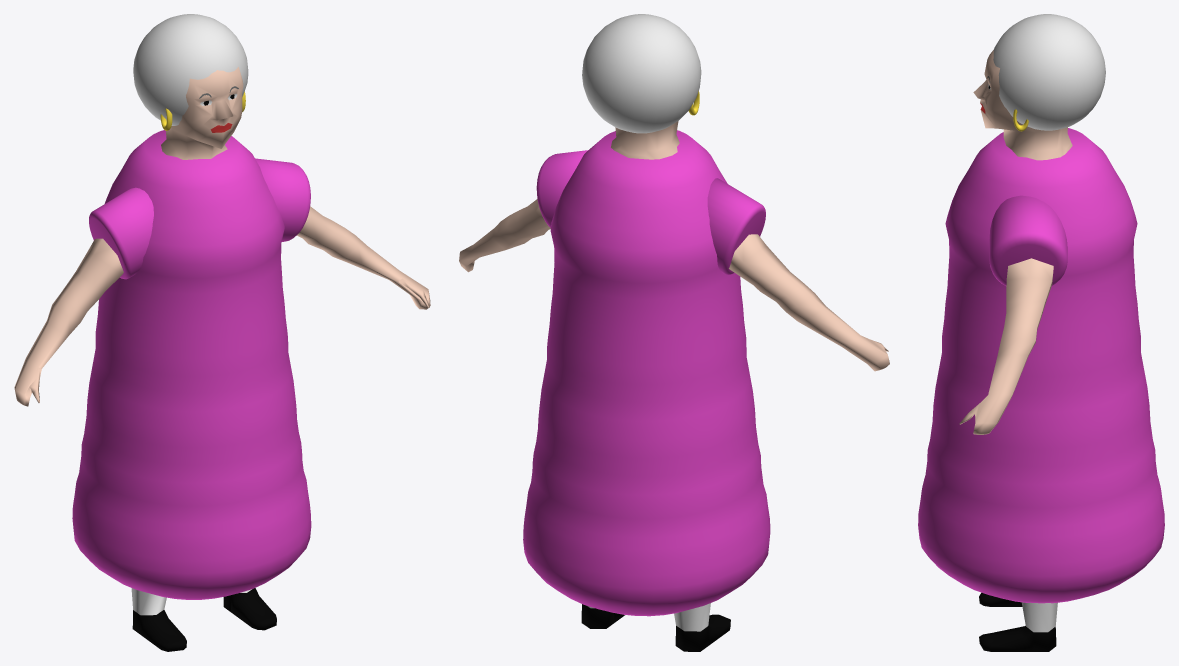
File: Oma.fbx
3 renders of one model, left to right at view 1: azimuth 30°, elevation 25°; view 2: azimuth 150°, elevation 25°; view 3: azimuth 270°, elevation 25°, orthographic. The views are drawn at different scales.
Parts seen in each view (by area): view 1: Cylinder.001, Body, Sphere; view 2: Cylinder.001, Body, Sphere; view 3: Cylinder.001, Body, Sphere.
Part boxes in pixels (<box>): Cylinder.001: <box>72,130,311,599</box>; Body: <box>14,67,430,651</box>; Sphere: <box>133,14,248,125</box>; Cylinder.001: <box>523,130,770,616</box>; Body: <box>459,121,889,651</box>; Sphere: <box>582,14,701,133</box>; Cylinder.001: <box>918,128,1164,603</box>; Body: <box>959,50,1072,651</box>; Sphere: <box>993,14,1105,130</box>.
Size of the model in its own units: 98.39 by 136 by 50.23.
